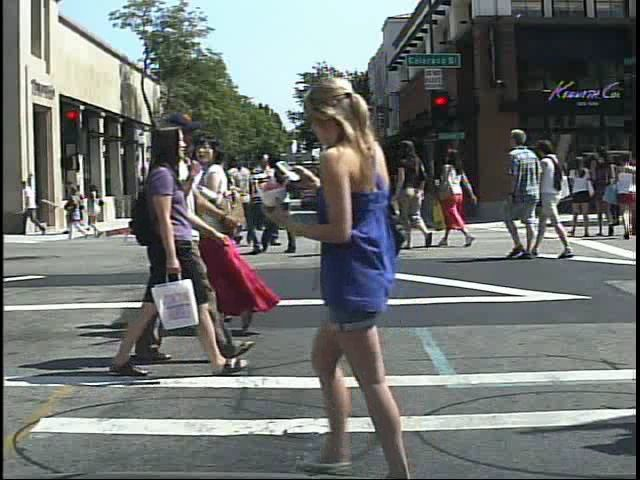person: (283, 71, 481, 479), (114, 111, 237, 383), (172, 105, 243, 367), (193, 133, 270, 339), (191, 133, 235, 334), (392, 134, 441, 260), (504, 123, 544, 262), (535, 133, 576, 264), (340, 137, 384, 259), (223, 139, 265, 261), (441, 145, 486, 256), (248, 149, 289, 249), (209, 152, 246, 251), (177, 155, 215, 251), (566, 148, 598, 241), (269, 150, 284, 257), (154, 173, 174, 241), (69, 182, 89, 232)
